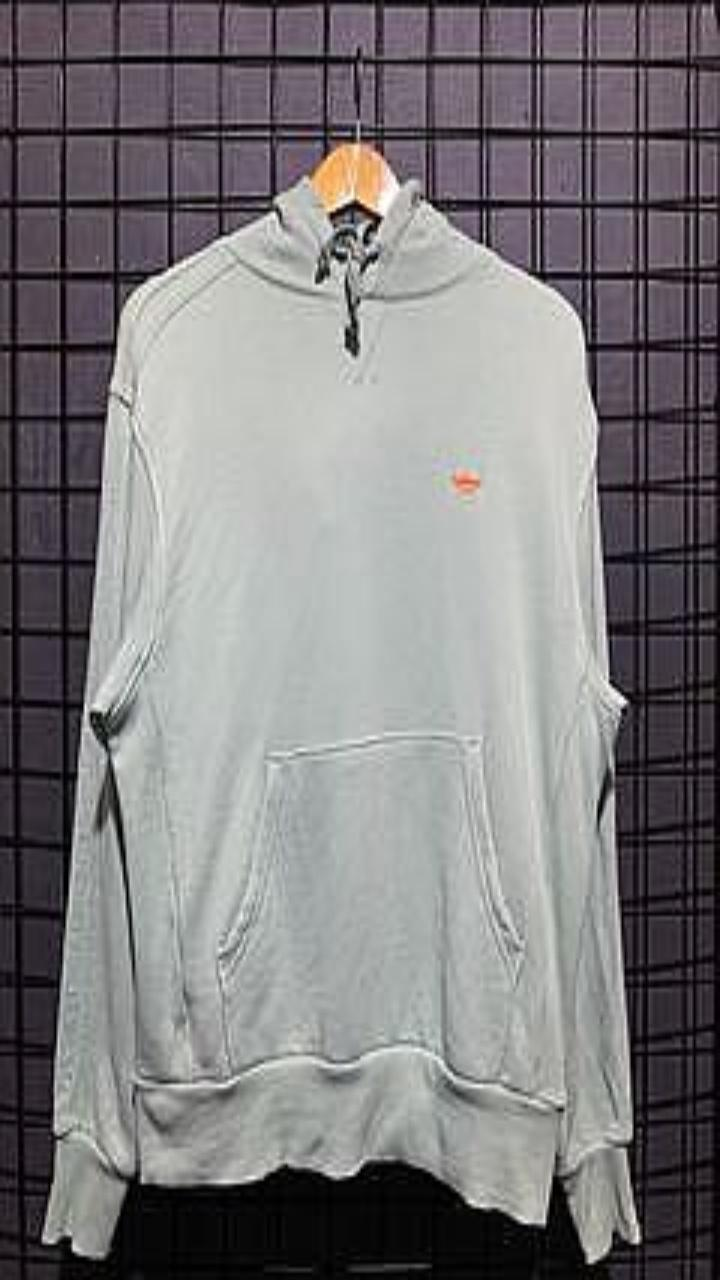Hoodie: (42, 175, 640, 1262)
